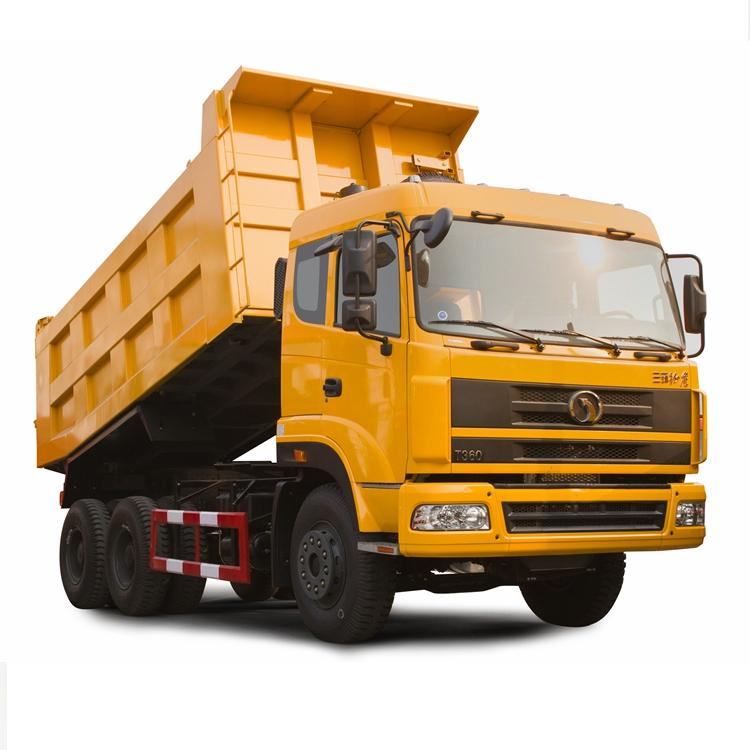truck: (34, 65, 709, 645)
